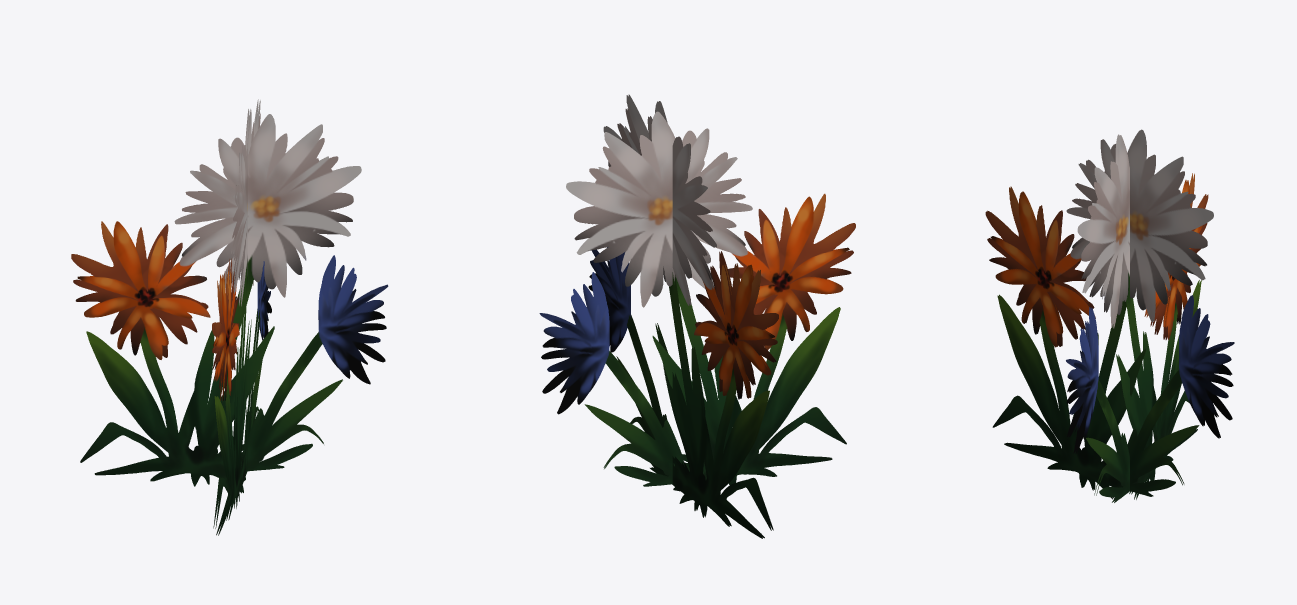
Rendered from flowers.fbx.
3 renders of one model, left to right at view 1: azimuth 30°, elevation 25°; view 2: azimuth 150°, elevation 25°; view 3: azimuth 270°, elevation 25°, orthographic. The views are drawn at different scales.
Parts seen in each view (by area): view 1: flowers; view 2: flowers; view 3: flowers.
Boxes of the visible parts, x1,y1,x2,y2 form: flowers: (71, 99, 388, 535); flowers: (539, 94, 855, 538); flowers: (985, 129, 1234, 502).
Bounding box in the file's own units: 0.3618 × 0.4 × 0.305.
Materials: 1 (1 with a texture image).
